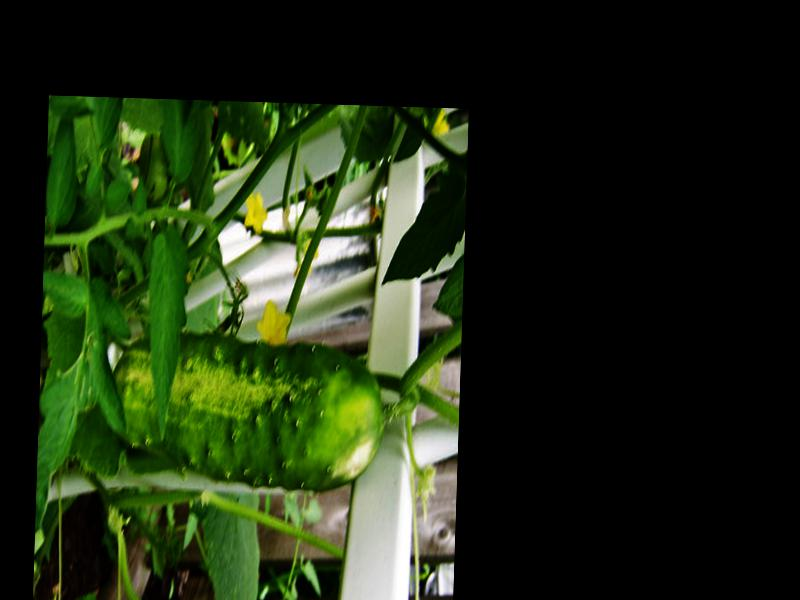Cucumber: (112, 337, 386, 491)
